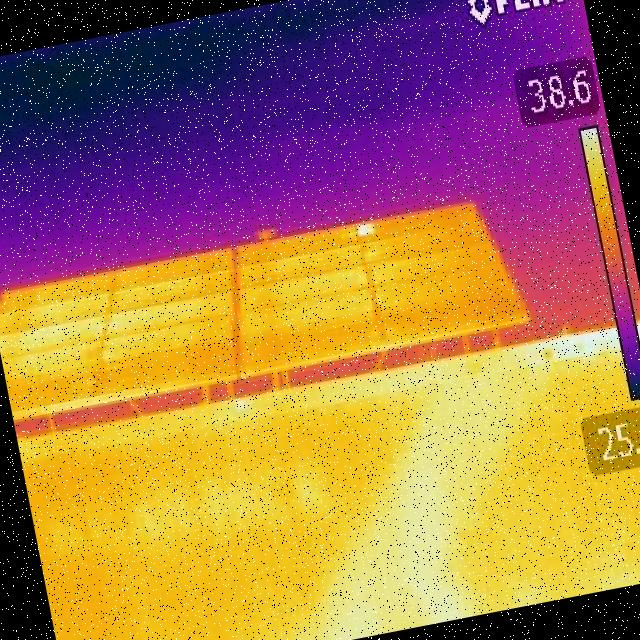Hotspot: (354, 220, 377, 240)
